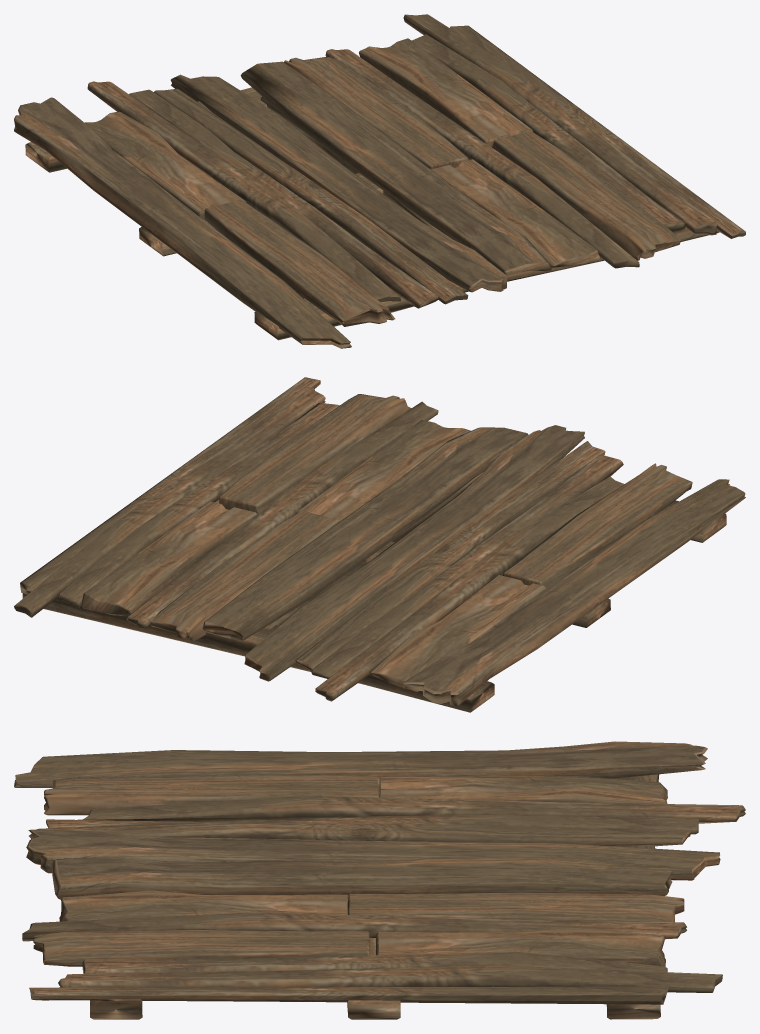
File: SM_street_floor_01.fbx
3 views of the same model, one above another, from view 1: azimuth 30°, elevation 25°; view 2: azimuth 150°, elevation 25°; view 3: azimuth 270°, elevation 25° (orthographic). The views are drawn at different scales.
Visible parts, largest first — view 1: SM_street_floor_01_LOD0; view 2: SM_street_floor_01_LOD0; view 3: SM_street_floor_01_LOD0.
Boxes of the visible parts, x1,y1,x2,y2 form: SM_street_floor_01_LOD0: [14, 14, 745, 348]; SM_street_floor_01_LOD0: [14, 377, 745, 712]; SM_street_floor_01_LOD0: [14, 741, 745, 1019].
Bounding box in the file's own units: 400 × 505 × 30.27.
2 materials, 2 textured.
